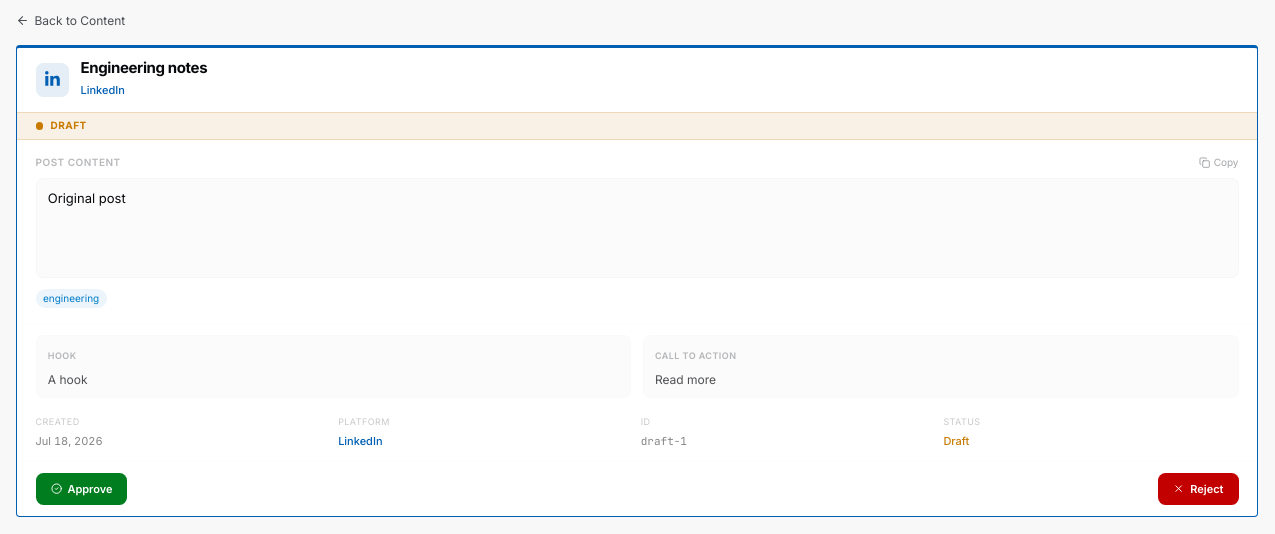
Scenario: DraftDetailPage › saves edited content through the API and returns to a clean draft state
The width and height of the screenshot is (1275, 534).
Replace the text in the text box named "post content" with "Updated post" at (637, 228), box [36,178,1238,278]
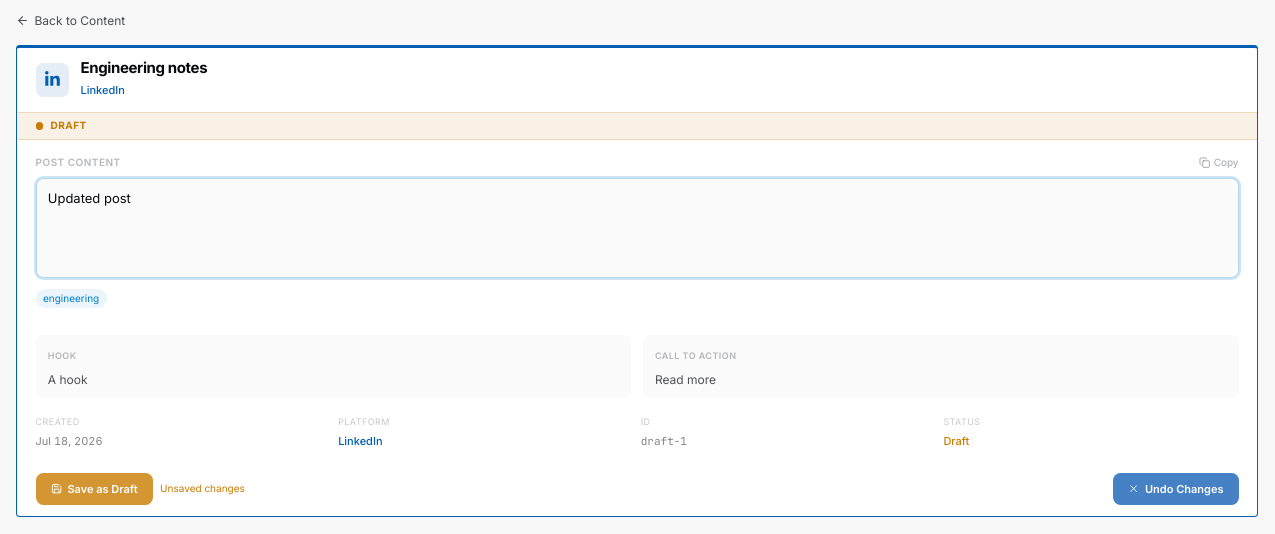
Now the text "Unsaved changes" is shown, box [160,481,245,496]
Click the button "Save as Draft".
click(94, 489)  # box [36,473,153,505]
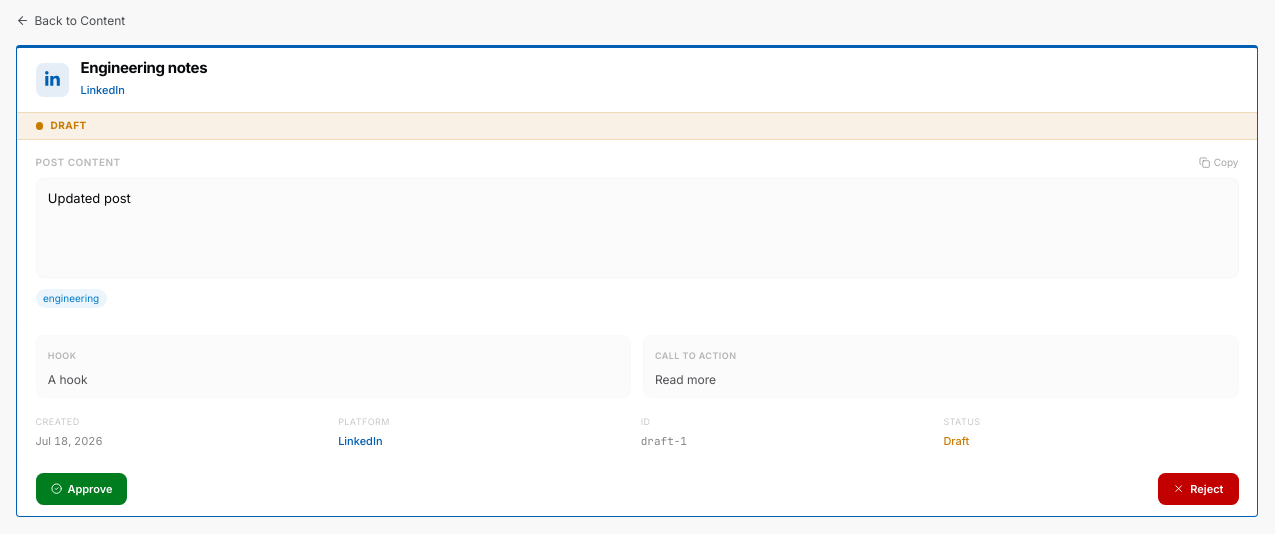
Expected: the button "Approve" is enabled, [36,473,128,505]
Now the text "Unsaved changes" is gone
